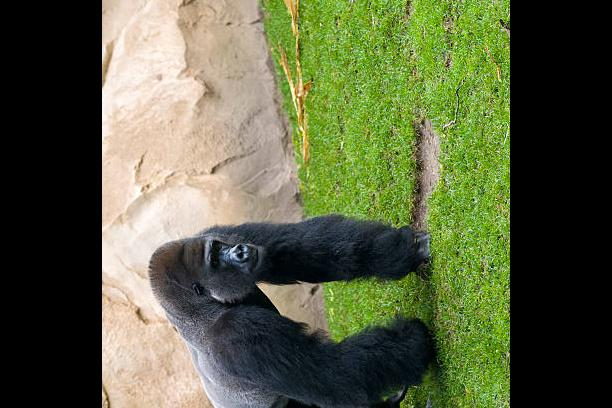gorille_Autres: (143, 206, 460, 408)
